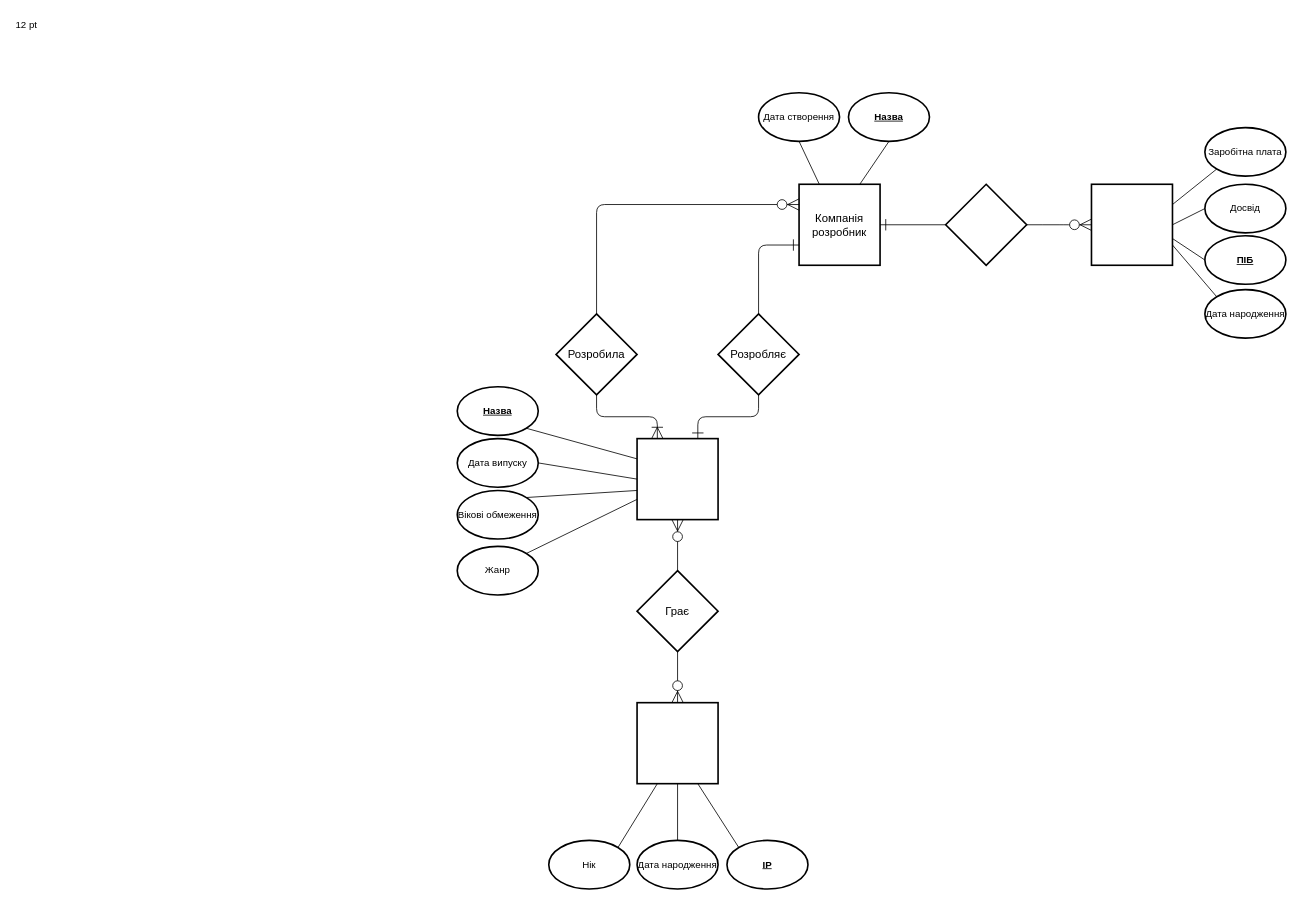
Some shapes in this 1300 by 903 pixel diagram are drawn without their labels. The shapes that lost their labels are listed below. From the top down, each one's centre as x and y in pixels, then its label:
point 985,224: Працює
point 1131,224: Програміст
point 677,478: Гра
point 677,742: Гравець
